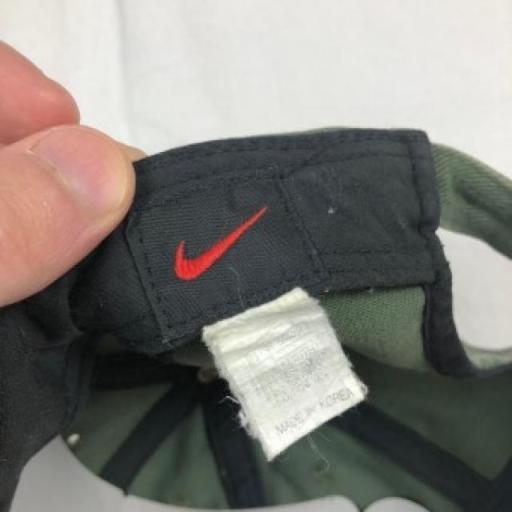Nike: (166, 204, 271, 282)
